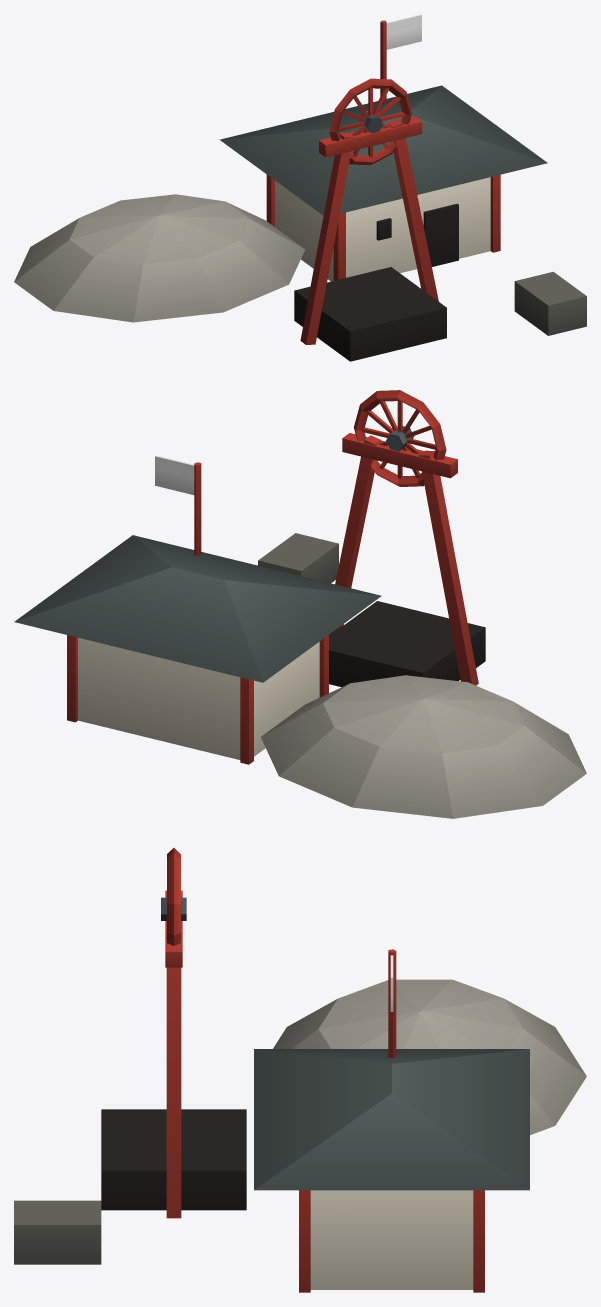
File: MINE_EA.glb
The picture shows the model from 3 angles, top to bottom: view 1: azimuth 30°, elevation 25°; view 2: azimuth 150°, elevation 25°; view 3: azimuth 270°, elevation 25°; orthographic projection. The views are drawn at different scales.
Visible parts, largest first — view 1: Body, Wheel_head, Flag; view 2: Body, Wheel_head, Flag; view 3: Body, Wheel_head.
Part boxes in pixels (x1=…): Body: x1=14, y1=20, x2=586, y2=361; Wheel_head: x1=329, y1=78, x2=411, y2=165; Flag: x1=386, y1=14, x2=421, y2=49; Body: x1=14, y1=433, x2=586, y2=818; Wheel_head: x1=354, y1=390, x2=446, y2=486; Flag: x1=155, y1=455, x2=194, y2=494; Body: x1=14, y1=890, x2=586, y2=1292; Wheel_head: x1=161, y1=848, x2=186, y2=945.
Size of the model in its own units: 4.65 by 2.48 by 3.94.
1 material, 1 textured.
